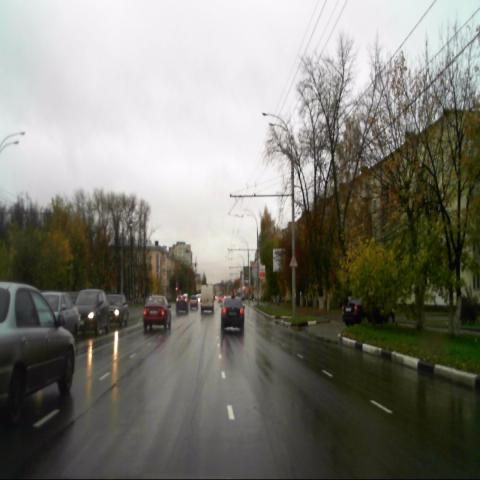1_23: (290, 254, 298, 267)
